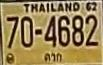0: (20, 16, 32, 46)
2: (85, 14, 97, 46)
4: (44, 15, 56, 46)
6: (57, 15, 69, 46)
7: (6, 16, 18, 48)
8: (72, 14, 83, 45)
TAK: (42, 51, 64, 63)
